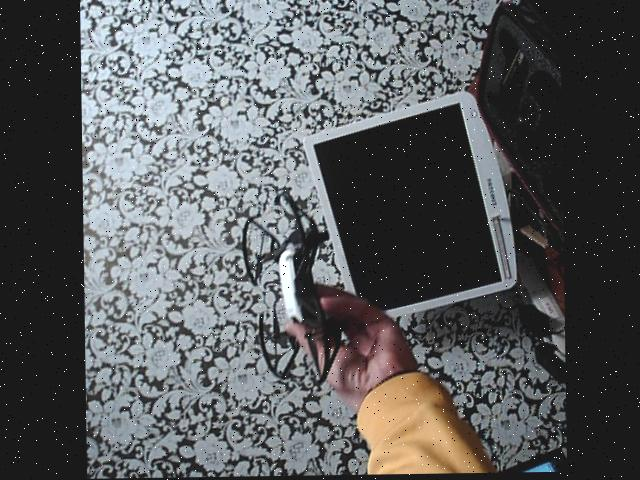drone: (230, 192, 353, 385)
